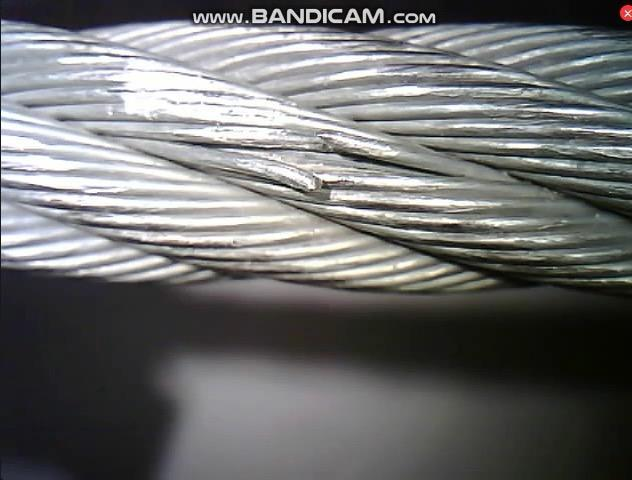break: (273, 121, 344, 204)
